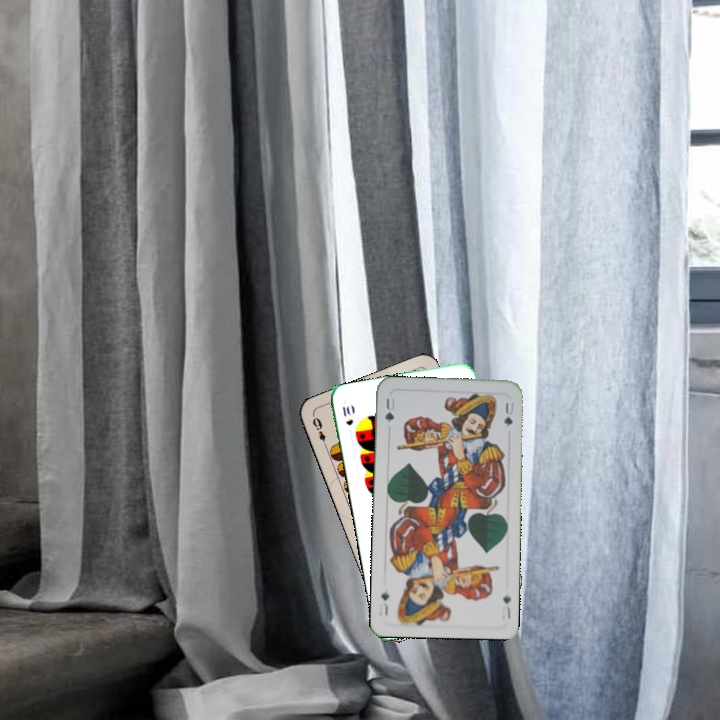E9: (308, 413, 330, 451)
GU: (381, 394, 398, 425), (499, 592, 513, 622)
S10: (338, 402, 356, 428)
